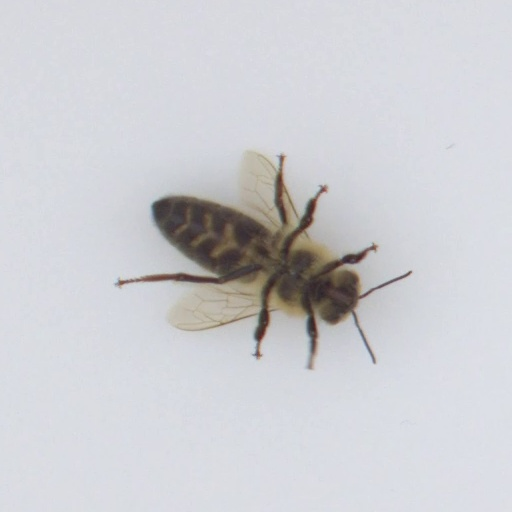Bee: (126, 174, 371, 340)
